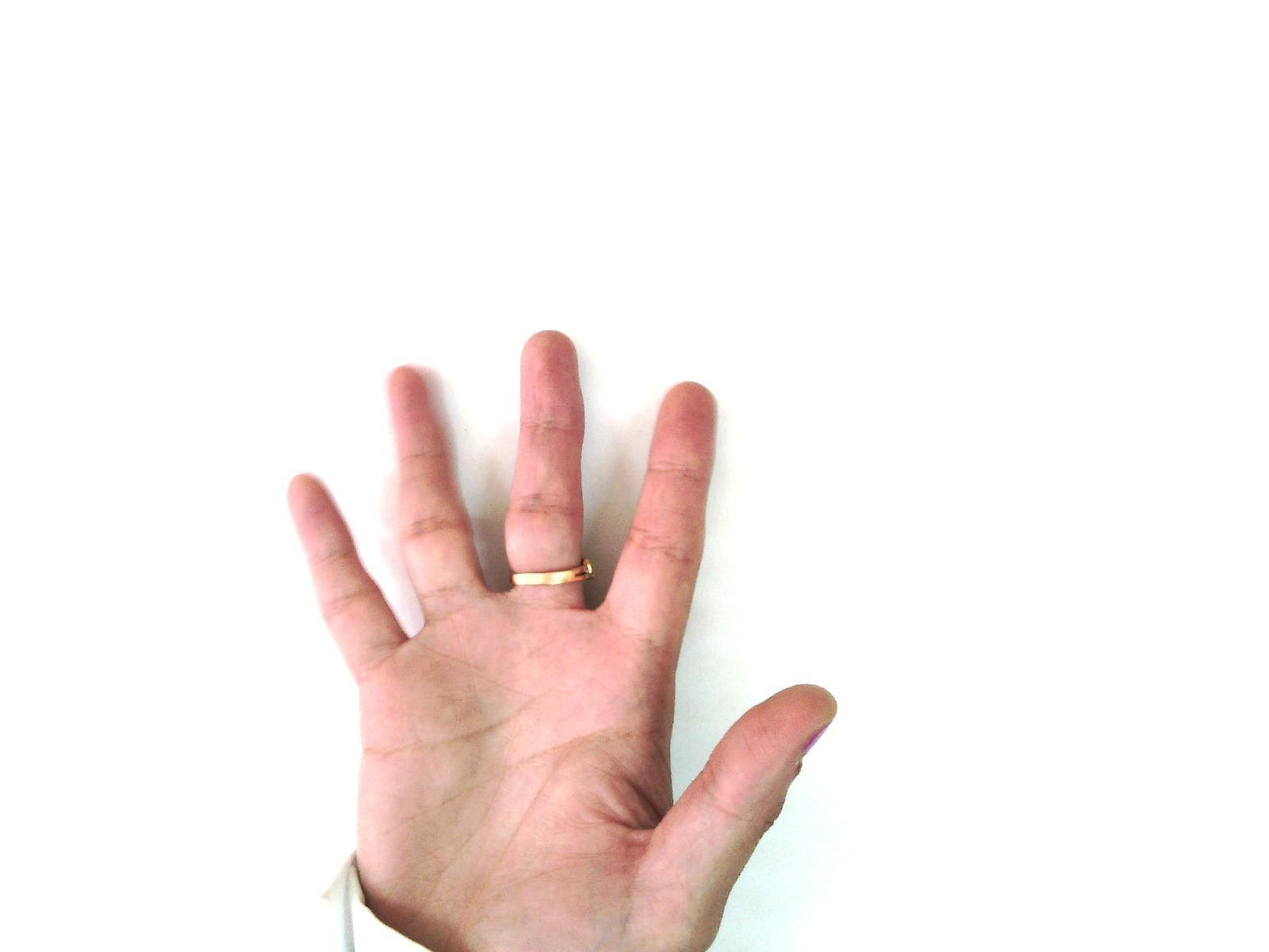open_palm: (285, 328, 840, 951)
